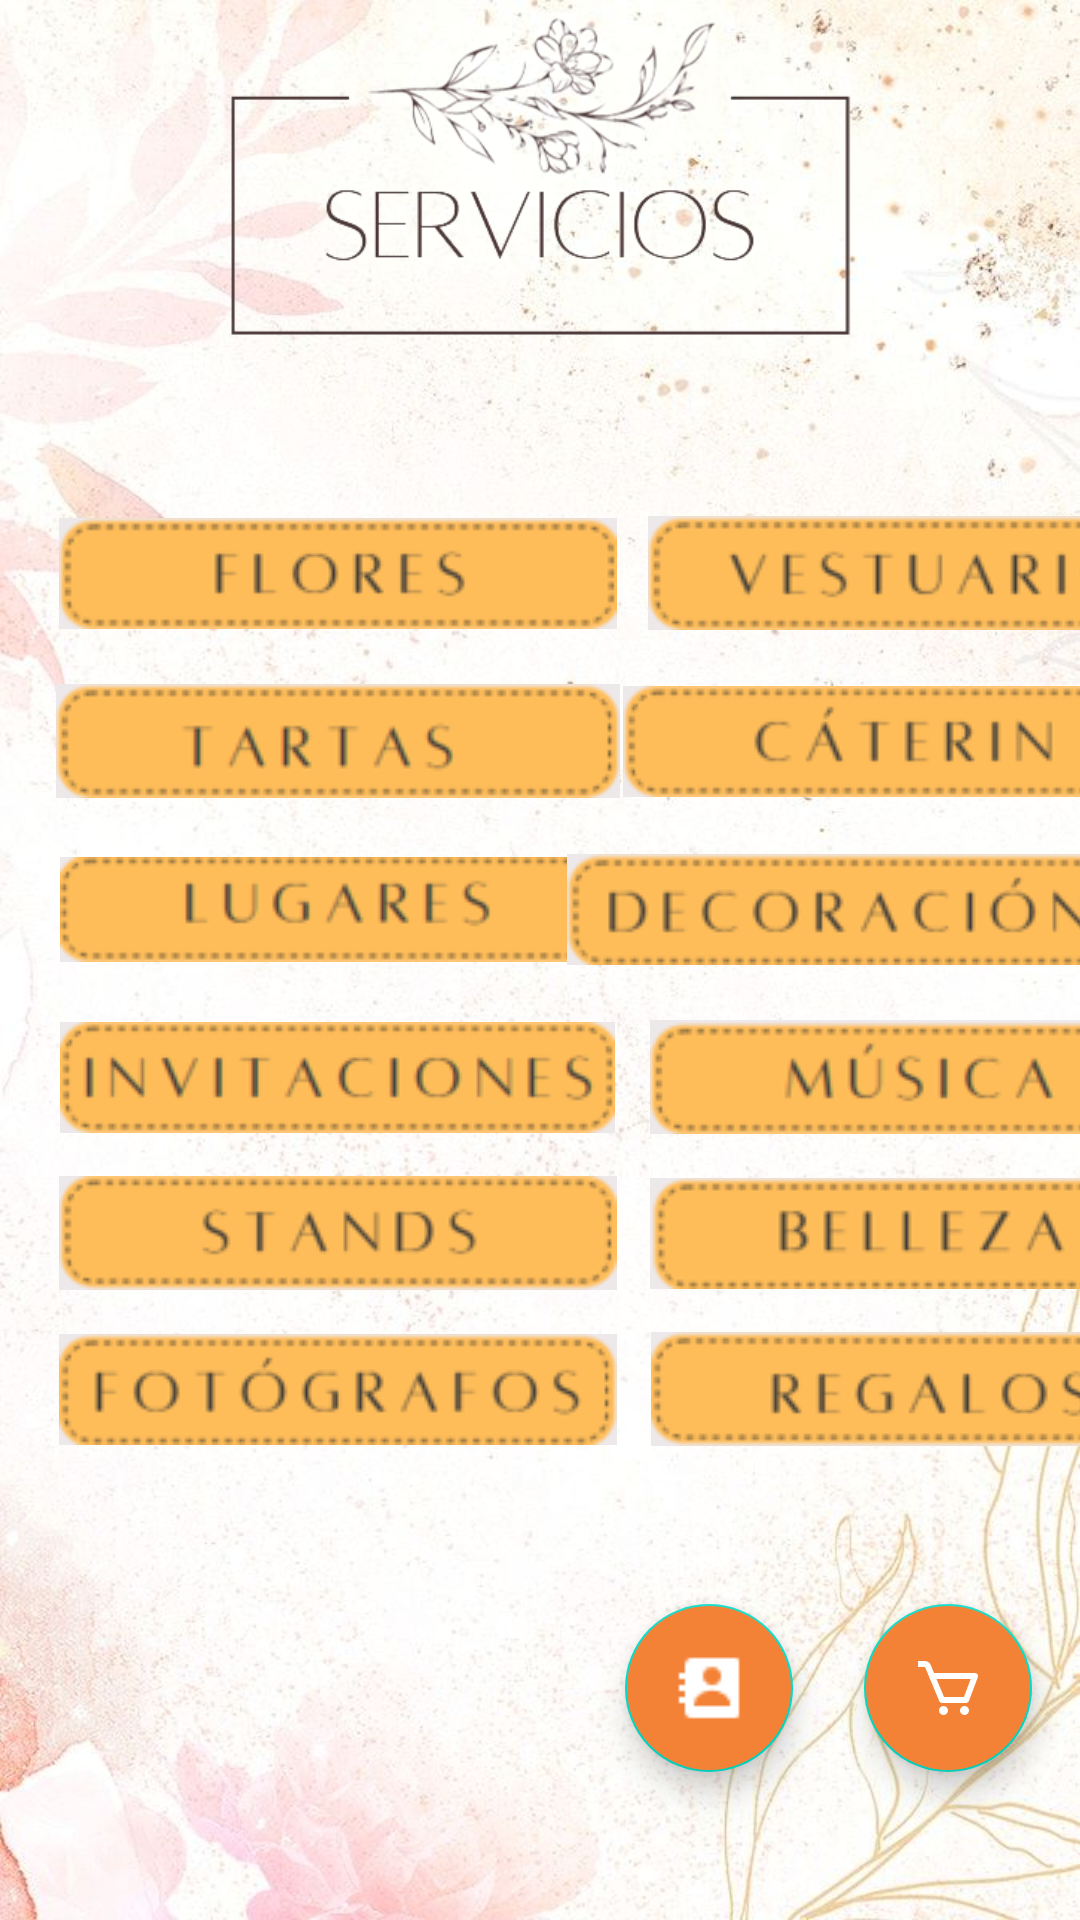

Locate icon controls on the screen. Image size 1080×1920, boxes as (x1, y1, x2, y2).
contact: (625, 1604, 793, 1772)
